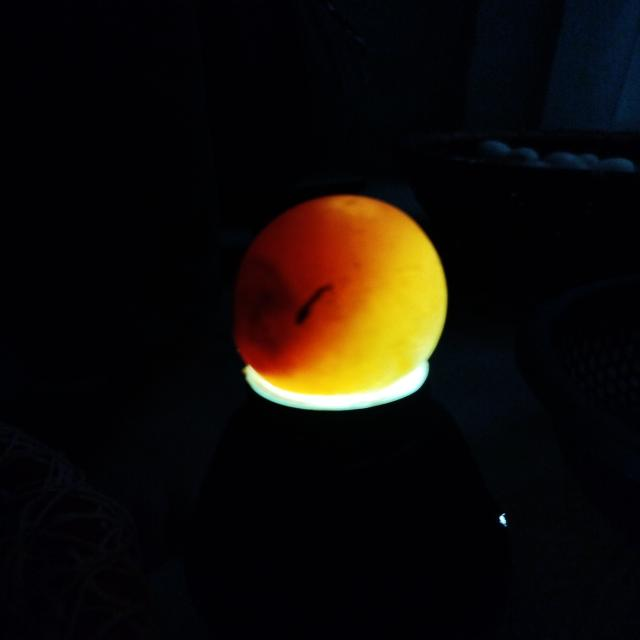Area Infectada: (231, 250, 328, 359)
